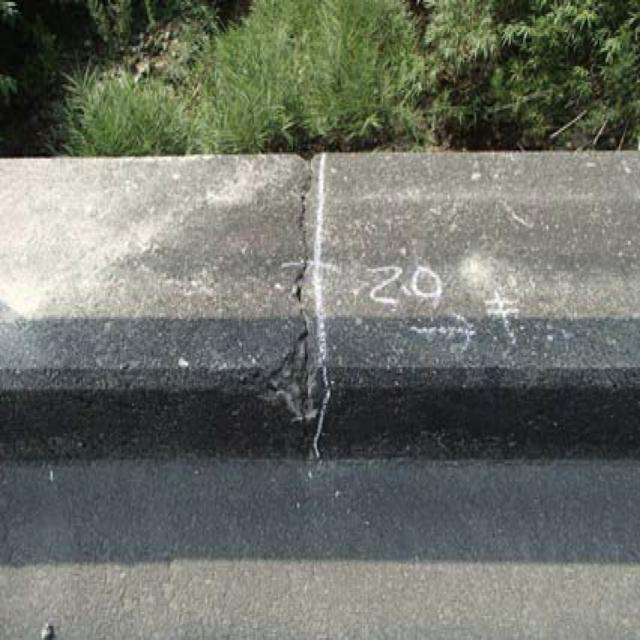crack: (264, 146, 326, 328)
spalling: (234, 340, 359, 440)
